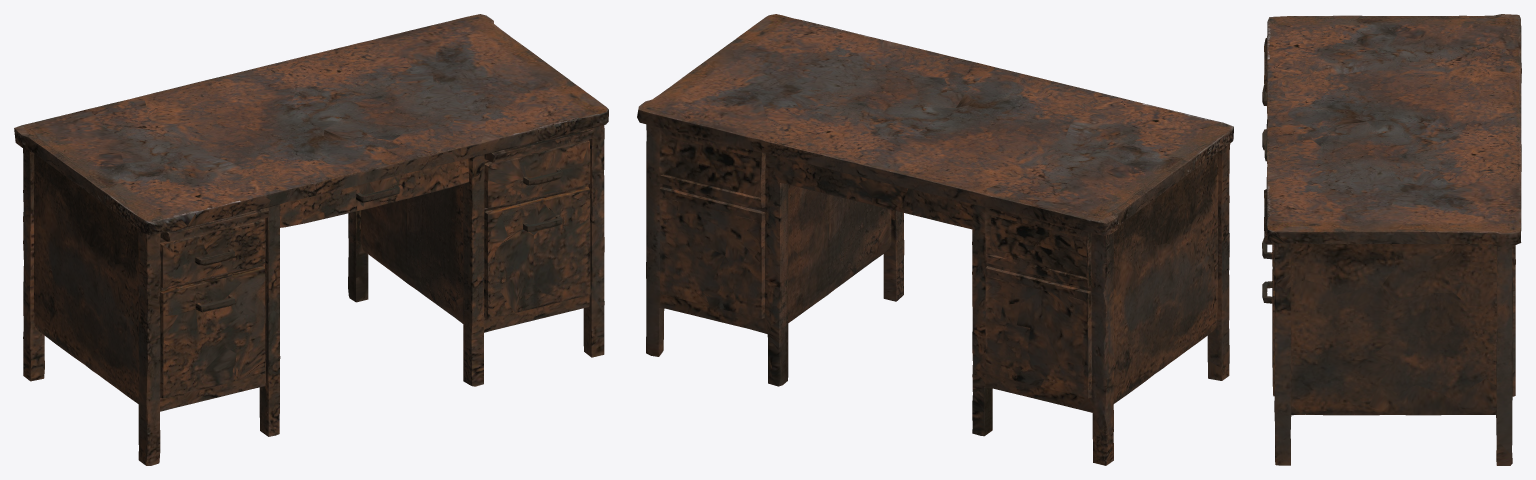
File: desk.glb
3 views of the same model, side by side, from view 1: azimuth 30°, elevation 25°; view 2: azimuth 150°, elevation 25°; view 3: azimuth 270°, elevation 25° (orthographic). The views are drawn at different scales.
Parts seen in each view (by area): view 1: mesh_node; view 2: mesh_node; view 3: mesh_node.
Boxes of the visible parts, x1,y1,x2,y2 form: mesh_node: (14,14,608,465); mesh_node: (637,14,1233,465); mesh_node: (1262,14,1521,465).
Bounding box in the file's own units: 1.9 × 0.9481 × 0.9479.
Materials: 1 (1 with a texture image).
